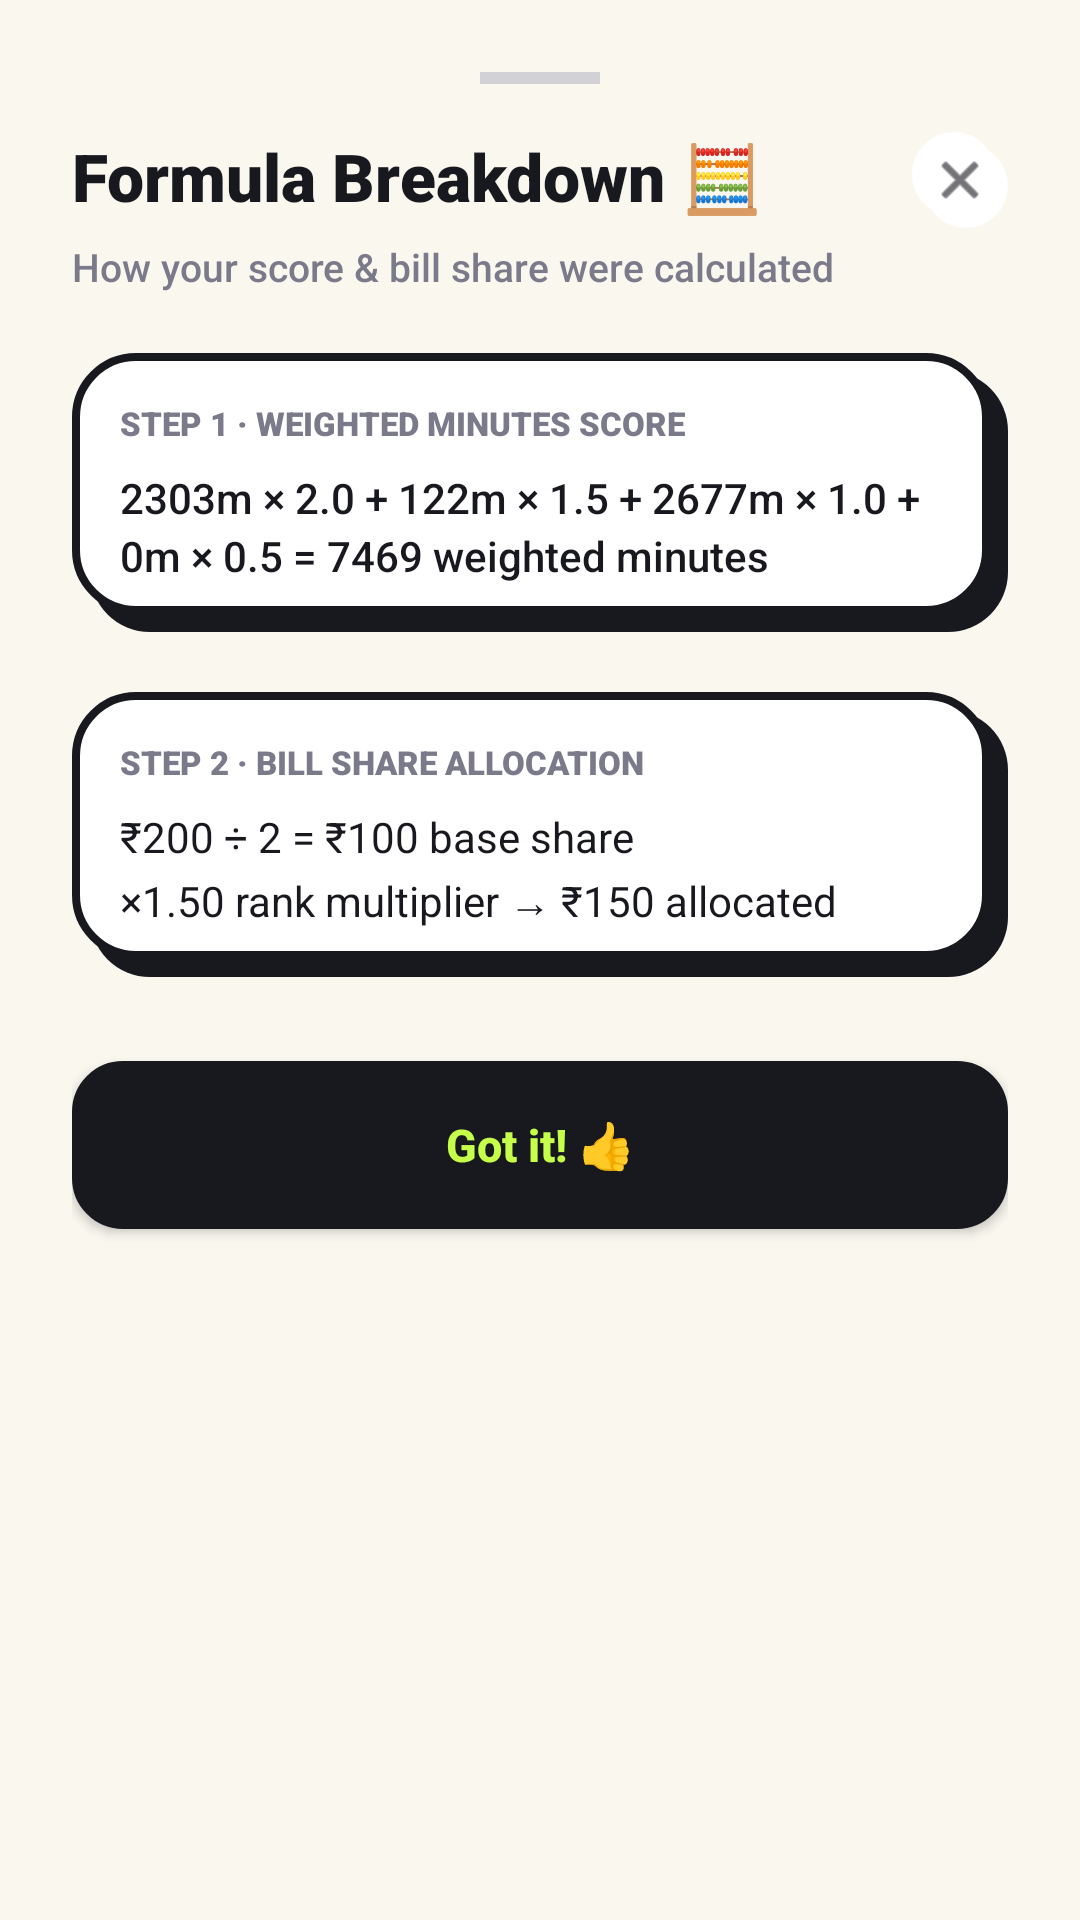

Icon bounding boxes for this 1080x1920 phone screenshot, format box(x1, y1, x2, y2):
close clear cancel: box(912, 132, 1008, 228)
